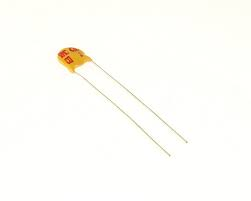ceramic capacitor: (43, 43, 129, 94)
